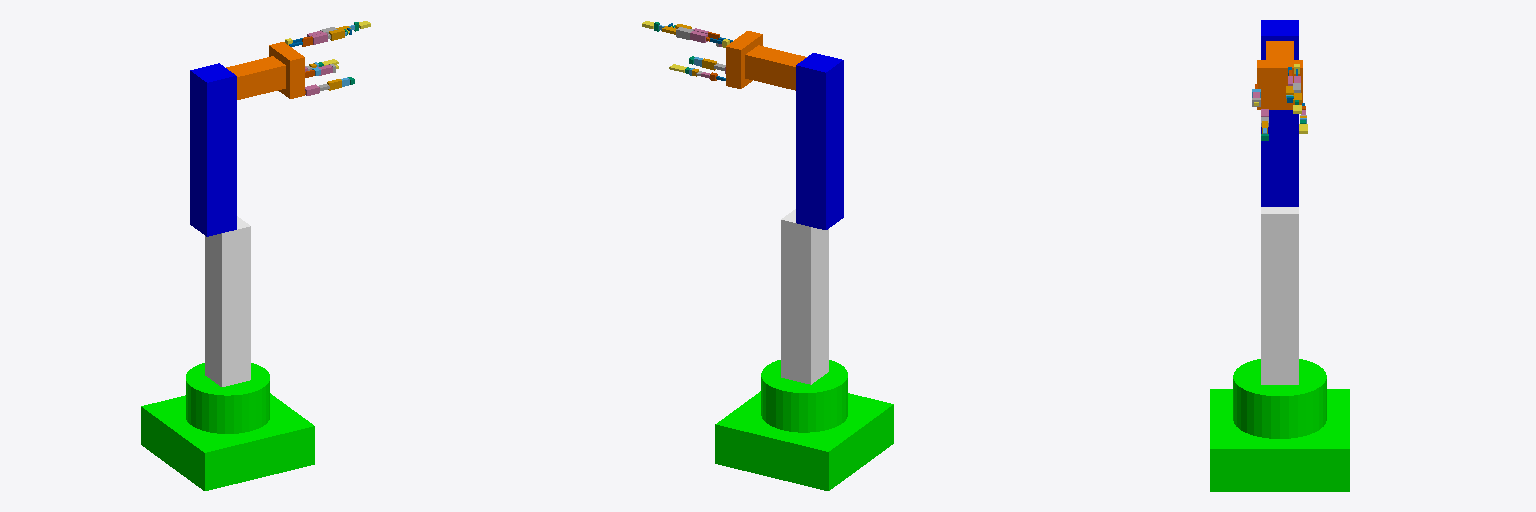
--- Facts derived from the render (not from the file) ---
The picture shows the robot from 3 angles, left to right: view 1: azimuth 30°, elevation 25°; view 2: azimuth 150°, elevation 25°; view 3: azimuth 270°, elevation 25°; orthographic projection.
Robot: robot — 44 links, 43 joints (40 revolute, 1 continuous, 2 fixed); root link base_link; default pose: all joints at 0.
Links seen in each view (by area): view 1: base_link, arm_link, support_link, wrist_link, palm_link; view 2: base_link, arm_link, support_link, wrist_link, palm_link; view 3: base_link, support_link, arm_link, palm_link, wrist_link.
Boxes of the visible links, x1,y1,x2,y2 form: base_link: [141, 363, 314, 490]; arm_link: [190, 63, 236, 236]; support_link: [205, 216, 250, 386]; wrist_link: [226, 56, 285, 99]; palm_link: [269, 42, 304, 98]; base_link: [715, 360, 893, 490]; arm_link: [796, 53, 843, 229]; support_link: [781, 209, 828, 384]; wrist_link: [745, 45, 806, 90]; palm_link: [726, 31, 762, 88]; base_link: [1210, 359, 1349, 491]; support_link: [1261, 207, 1298, 384]; arm_link: [1261, 20, 1298, 206]; palm_link: [1257, 60, 1302, 109]; wrist_link: [1266, 41, 1293, 59].
Size in the robot's own frame: 1.39 by 0.75 by 2.55 metres.
Geometry: primitives only (box / cylinder / sphere), no mesh files.

URDF robot description (robot):
<?xml version='1.0' encoding='utf-8'?>
<robot name="robot">
  <link name="base_link">
    <visual>
      <origin xyz="0 0 0.125" rpy="0 0 0" />
      <geometry>
        <box size="0.75 0.75 0.25" />
      </geometry>
      <material name="green" />
    </visual>
    <visual>
      <origin xyz="0 0 0.375" rpy="0 0 0" />
      <geometry>
        <cylinder length="0.25" radius="0.25" />
      </geometry>
      <material name="green">
        <color rgba="0 1 0 1" />
      </material>
    </visual>
    <collision>
      <geometry>
        <box size="0.75 0.75 0.5" />
      </geometry>
    </collision>
    <inertial>
      <mass value="0.5" />
      <inertia ixx="0.034" ixy="0.0" ixz="0.0" iyy="0.034" iyz="0.0" izz="0.034" />
    </inertial>
  </link>
  <link name="support_link">
    <visual>
      <origin xyz="0 0 0.5" rpy="0 0 0" />
      <geometry>
        <box size="0.2 0.2 1" />
      </geometry>
      <material name="white">
        <color rgba="1 1 1 1" />
      </material>
    </visual>
    <collision>
      <geometry>
        <box size="0.2 0.2 1" />
      </geometry>
    </collision>
    <inertial>
      <mass value="0.1" />
      <inertia ixx="0.01" ixy="0.0" ixz="0.0" iyy="0.01" iyz="0.0" izz="0.01" />
    </inertial>
  </link>
  <joint name="support_joint" type="continuous">
    <origin xyz="0 0 0.5" rpy="0 0 0" />
    <parent link="base_link" />
    <child link="support_link" />
    <axis xyz="0 0 1" />
  </joint>
  <link name="arm_link">
    <visual>
      <origin xyz="0 0 0.5" rpy="0 0 0" />
      <geometry>
        <box size="0.2 0.2 1" />
      </geometry>
      <material name="blue">
        <color rgba="0 0 1 1" />
      </material>
    </visual>
    <collision>
      <geometry>
        <box size="0.2 0.2 1" />
      </geometry>
    </collision>
    <inertial>
      <mass value="0.1" />
      <inertia ixx="0.01" ixy="0.0" ixz="0.0" iyy="0.01" iyz="0.0" izz="0.01" />
    </inertial>
  </link>
  <joint name="arm_joint" type="revolute">
    <origin xyz="-0.1 0 1" rpy="0 0 0" />
    <parent link="support_link" />
    <child link="arm_link" />
    <axis xyz="0 1 0" />
    <limit lower="-3.14" upper="3.14" effort="1.0" velocity="1.0" />
  </joint>
  <link name="wrist_link">
    <visual>
      <origin xyz="0 0 0.25" rpy="0 0 0" />
      <geometry>
        <box size="0.15 0.15 0.5" />
      </geometry>
      <material name="orange">
        <color rgba="1 0.5 0 1" />
      </material>
    </visual>
    <collision>
      <geometry>
        <box size="0.15 0.15 0.5" />
      </geometry>
    </collision>
    <inertial>
      <mass value="0.1" />
      <inertia ixx="0.01" ixy="0.0" ixz="0.0" iyy="0.01" iyz="0.0" izz="0.01" />
    </inertial>
  </link>
  <joint name="wrist_joint" type="fixed">
    <origin xyz="0 0 0.9" rpy="0 1.571 0" />
    <parent link="arm_link" />
    <child link="wrist_link" />
  </joint>
  <link name="palm_link">
    <visual>
      <origin xyz="0 0 0.05" rpy="0 0 0" />
      <geometry>
        <box size="0.25 0.25 0.1" />
      </geometry>
      <material name="orange" />
    </visual>
    <collision>
      <geometry>
        <box size="0.25 0.25 0.1" />
      </geometry>
    </collision>
    <inertial>
      <mass value="0.1" />
      <inertia ixx="0.01" ixy="0.0" ixz="0.0" iyy="0.01" iyz="0.0" izz="0.01" />
    </inertial>
  </link>
  <joint name="palm_joint" type="fixed">
    <origin xyz="0 0 0.45" rpy="0 0 0" />
    <parent link="wrist_link" />
    <child link="palm_link" />
  </joint>
  <link name="finger_link_0_0">
    <visual>
      <origin xyz="0 0 0.0135" rpy="0 0 0" />
      <geometry>
        <box size="0.014 0.015 0.027" />
      </geometry>
    </visual>
    <collision>
      <geometry>
        <box size="0.014 0.015 0.027" />
      </geometry>
    </collision>
    <inertial>
      <mass value="0.002" />
      <inertia ixx="0.0" iyy="0.0" izz="0.0" ixy="0" ixz="0" iyz="0" />
    </inertial>
  </link>
  <joint name="finger_joint_palm_link_to_finger_link_0_0" type="revolute">
    <origin xyz="0.125 -0.08 0.1" rpy="0 0 0" />
    <parent link="palm_link" />
    <child link="finger_link_0_0" />
    <axis xyz="0.0 1.0 0.0" />
    <limit lower="-3.142" upper="3.142" effort="10" velocity="10" />
  </joint>
  <link name="finger_link_0_1">
    <visual>
      <origin xyz="0 0 0.0425" rpy="0 0 0" />
      <geometry>
        <box size="0.04 0.047 0.085" />
      </geometry>
    </visual>
    <collision>
      <geometry>
        <box size="0.04 0.047 0.085" />
      </geometry>
    </collision>
    <inertial>
      <mass value="0.048" />
      <inertia ixx="0.0" iyy="0.0" izz="0.0" ixy="0" ixz="0" iyz="0" />
    </inertial>
  </link>
  <joint name="finger_joint_finger_link_0_0_to_finger_link_0_1" type="revolute">
    <origin xyz="0.0 0.0 0.027" rpy="0 0 0" />
    <parent link="finger_link_0_0" />
    <child link="finger_link_0_1" />
    <axis xyz="0.0 1.0 0.0" />
    <limit lower="-3.142" upper="3.142" effort="10" velocity="10" />
  </joint>
  <link name="finger_link_0_2">
    <visual>
      <origin xyz="0 0 0.036" rpy="0 0 0" />
      <geometry>
        <box size="0.021 0.038 0.072" />
      </geometry>
    </visual>
    <collision>
      <geometry>
        <box size="0.021 0.038 0.072" />
      </geometry>
    </collision>
    <inertial>
      <mass value="0.017" />
      <inertia ixx="0.0" iyy="0.0" izz="0.0" ixy="0" ixz="0" iyz="0" />
    </inertial>
  </link>
  <joint name="finger_joint_finger_link_0_1_to_finger_link_0_2" type="revolute">
    <origin xyz="0.0 0.0 0.085" rpy="0 0 0" />
    <parent link="finger_link_0_1" />
    <child link="finger_link_0_2" />
    <axis xyz="0.0 1.0 0.0" />
    <limit lower="-3.142" upper="3.142" effort="10" velocity="10" />
  </joint>
  <link name="finger_link_0_3">
    <visual>
      <origin xyz="0 0 0.0425" rpy="0 0 0" />
      <geometry>
        <box size="0.048 0.028 0.085" />
      </geometry>
    </visual>
    <collision>
      <geometry>
        <box size="0.048 0.028 0.085" />
      </geometry>
    </collision>
    <inertial>
      <mass value="0.034" />
      <inertia ixx="0.0" iyy="0.0" izz="0.0" ixy="0" ixz="0" iyz="0" />
    </inertial>
  </link>
  <joint name="finger_joint_finger_link_0_2_to_finger_link_0_3" type="revolute">
    <origin xyz="0.0 0.0 0.072" rpy="0 0 0" />
    <parent link="finger_link_0_2" />
    <child link="finger_link_0_3" />
    <axis xyz="0.0 1.0 0.0" />
    <limit lower="-3.142" upper="3.142" effort="10" velocity="10" />
  </joint>
  <link name="finger_link_0_4">
    <visual>
      <origin xyz="0 0 0.0275" rpy="0 0 0" />
      <geometry>
        <box size="0.041 0.025 0.055" />
      </geometry>
    </visual>
    <collision>
      <geometry>
        <box size="0.041 0.025 0.055" />
      </geometry>
    </collision>
    <inertial>
      <mass value="0.017" />
      <inertia ixx="0.0" iyy="0.0" izz="0.0" ixy="0" ixz="0" iyz="0" />
    </inertial>
  </link>
  <joint name="finger_joint_finger_link_0_3_to_finger_link_0_4" type="revolute">
    <origin xyz="0.0 0.0 0.085" rpy="0 0 0" />
    <parent link="finger_link_0_3" />
    <child link="finger_link_0_4" />
    <axis xyz="1.0 0.0 0.0" />
    <limit lower="-3.142" upper="3.142" effort="10" velocity="10" />
  </joint>
  <link name="finger_link_0_5">
    <visual>
      <origin xyz="0 0 0.0145" rpy="0 0 0" />
      <geometry>
        <box size="0.03 0.043 0.029" />
      </geometry>
    </visual>
    <collision>
      <geometry>
        <box size="0.03 0.043 0.029" />
      </geometry>
    </collision>
    <inertial>
      <mass value="0.011" />
      <inertia ixx="0.0" iyy="0.0" izz="0.0" ixy="0" ixz="0" iyz="0" />
    </inertial>
  </link>
  <joint name="finger_joint_finger_link_0_4_to_finger_link_0_5" type="revolute">
    <origin xyz="0.0 0.0 0.055" rpy="0 0 0" />
    <parent link="finger_link_0_4" />
    <child link="finger_link_0_5" />
    <axis xyz="0.0 1.0 0.0" />
    <limit lower="-3.142" upper="3.142" effort="10" velocity="10" />
  </joint>
  <link name="finger_link_1_0">
    <visual>
      <origin xyz="0 0 0.017" rpy="0 0 0" />
      <geometry>
        <box size="0.043 0.031 0.034" />
      </geometry>
    </visual>
    <collision>
      <geometry>
        <box size="0.043 0.031 0.034" />
      </geometry>
    </collision>
    <inertial>
      <mass value="0.014" />
      <inertia ixx="0.0" iyy="0.0" izz="0.0" ixy="0" ixz="0" iyz="0" />
    </inertial>
  </link>
  <joint name="finger_joint_palm_link_to_finger_link_1_0" type="revolute">
    <origin xyz="-0.125 0.092 0.1" rpy="0 0 0" />
    <parent link="palm_link" />
    <child link="finger_link_1_0" />
    <axis xyz="0.0 -1.0 0.0" />
    <limit lower="-3.142" upper="3.142" effort="10" velocity="10" />
  </joint>
  <link name="finger_link_1_1">
    <visual>
      <origin xyz="0 0 0.0445" rpy="0 0 0" />
      <geometry>
        <box size="0.018 0.012 0.089" />
      </geometry>
    </visual>
    <collision>
      <geometry>
        <box size="0.018 0.012 0.089" />
      </geometry>
    </collision>
    <inertial>
      <mass value="0.006" />
      <inertia ixx="0.0" iyy="0.0" izz="0.0" ixy="0" ixz="0" iyz="0" />
    </inertial>
  </link>
  <joint name="finger_joint_finger_link_1_0_to_finger_link_1_1" type="revolute">
    <origin xyz="0.0 0.0 0.034" rpy="0 0 0" />
    <parent link="finger_link_1_0" />
    <child link="finger_link_1_1" />
    <axis xyz="0.0 1.0 0.0" />
    <limit lower="-3.142" upper="3.142" effort="10" velocity="10" />
  </joint>
  <link name="finger_link_1_2">
    <visual>
      <origin xyz="0 0 0.0125" rpy="0 0 0" />
      <geometry>
        <box size="0.017 0.017 0.025" />
      </geometry>
    </visual>
    <collision>
      <geometry>
        <box size="0.017 0.017 0.025" />
      </geometry>
    </collision>
    <inertial>
      <mass value="0.002" />
      <inertia ixx="0.0" iyy="0.0" izz="0.0" ixy="0" ixz="0" iyz="0" />
    </inertial>
  </link>
  <joint name="finger_joint_finger_link_1_1_to_finger_link_1_2" type="revolute">
    <origin xyz="0.0 0.0 0.089" rpy="0 0 0" />
    <parent link="finger_link_1_1" />
    <child link="finger_link_1_2" />
    <axis xyz="0.0 1.0 0.0" />
    <limit lower="-3.142" upper="3.142" effort="10" velocity="10" />
  </joint>
  <link name="finger_link_1_3">
    <visual>
      <origin xyz="0 0 0.048" rpy="0 0 0" />
      <geometry>
        <box size="0.044 0.035 0.096" />
      </geometry>
    </visual>
    <collision>
      <geometry>
        <box size="0.044 0.035 0.096" />
      </geometry>
    </collision>
    <inertial>
      <mass value="0.044" />
      <inertia ixx="0.0" iyy="0.0" izz="0.0" ixy="0" ixz="0" iyz="0" />
    </inertial>
  </link>
  <joint name="finger_joint_finger_link_1_2_to_finger_link_1_3" type="revolute">
    <origin xyz="0.0 0.0 0.025" rpy="0 0 0" />
    <parent link="finger_link_1_2" />
    <child link="finger_link_1_3" />
    <axis xyz="0.0 1.0 0.0" />
    <limit lower="-3.142" upper="3.142" effort="10" velocity="10" />
  </joint>
  <link name="finger_link_1_4">
    <visual>
      <origin xyz="0 0 0.0455" rpy="0 0 0" />
      <geometry>
        <box size="0.048 0.045 0.091" />
      </geometry>
    </visual>
    <collision>
      <geometry>
        <box size="0.048 0.045 0.091" />
      </geometry>
    </collision>
    <inertial>
      <mass value="0.059" />
      <inertia ixx="0.0" iyy="0.0" izz="0.0" ixy="0" ixz="0" iyz="0" />
    </inertial>
  </link>
  <joint name="finger_joint_finger_link_1_3_to_finger_link_1_4" type="revolute">
    <origin xyz="0.0 0.0 0.096" rpy="0 0 0" />
    <parent link="finger_link_1_3" />
    <child link="finger_link_1_4" />
    <axis xyz="0.0 1.0 0.0" />
    <limit lower="-3.142" upper="3.142" effort="10" velocity="10" />
  </joint>
  <link name="finger_link_1_5">
    <visual>
      <origin xyz="0 0 0.046" rpy="0 0 0" />
      <geometry>
        <box size="0.019 0.046 0.092" />
      </geometry>
    </visual>
    <collision>
      <geometry>
        <box size="0.019 0.046 0.092" />
      </geometry>
    </collision>
    <inertial>
      <mass value="0.024" />
      <inertia ixx="0.0" iyy="0.0" izz="0.0" ixy="0" ixz="0" iyz="0" />
    </inertial>
  </link>
  <joint name="finger_joint_finger_link_1_4_to_finger_link_1_5" type="revolute">
    <origin xyz="0.0 0.0 0.091" rpy="0 0 0" />
    <parent link="finger_link_1_4" />
    <child link="finger_link_1_5" />
    <axis xyz="0.0 1.0 0.0" />
    <limit lower="-3.142" upper="3.142" effort="10" velocity="10" />
  </joint>
  <link name="finger_link_1_6">
    <visual>
      <origin xyz="0 0 0.017" rpy="0 0 0" />
      <geometry>
        <box size="0.026 0.013 0.034" />
      </geometry>
    </visual>
    <collision>
      <geometry>
        <box size="0.026 0.013 0.034" />
      </geometry>
    </collision>
    <inertial>
      <mass value="0.003" />
      <inertia ixx="0.0" iyy="0.0" izz="0.0" ixy="0" ixz="0" iyz="0" />
    </inertial>
  </link>
  <joint name="finger_joint_finger_link_1_5_to_finger_link_1_6" type="revolute">
    <origin xyz="0.0 0.0 0.092" rpy="0 0 0" />
    <parent link="finger_link_1_5" />
    <child link="finger_link_1_6" />
    <axis xyz="1.0 1.0 0.0" />
    <limit lower="-3.142" upper="3.142" effort="10" velocity="10" />
  </joint>
  <link name="finger_link_1_7">
    <visual>
      <origin xyz="0 0 0.0145" rpy="0 0 0" />
      <geometry>
        <box size="0.05 0.019 0.029" />
      </geometry>
    </visual>
    <collision>
      <geometry>
        <box size="0.05 0.019 0.029" />
      </geometry>
    </collision>
    <inertial>
      <mass value="0.008" />
      <inertia ixx="0.0" iyy="0.0" izz="0.0" ixy="0" ixz="0" iyz="0" />
    </inertial>
  </link>
  <joint name="finger_joint_finger_link_1_6_to_finger_link_1_7" type="revolute">
    <origin xyz="0.0 0.0 0.034" rpy="0 0 0" />
    <parent link="finger_link_1_6" />
    <child link="finger_link_1_7" />
    <axis xyz="0.0 1.0 0.0" />
    <limit lower="-3.142" upper="3.142" effort="10" velocity="10" />
  </joint>
  <link name="finger_link_1_8">
    <visual>
      <origin xyz="0 0 0.0355" rpy="0 0 0" />
      <geometry>
        <box size="0.021 0.048 0.071" />
      </geometry>
    </visual>
    <collision>
      <geometry>
        <box size="0.021 0.048 0.071" />
      </geometry>
    </collision>
    <inertial>
      <mass value="0.021" />
      <inertia ixx="0.0" iyy="0.0" izz="0.0" ixy="0" ixz="0" iyz="0" />
    </inertial>
  </link>
  <joint name="finger_joint_finger_link_1_7_to_finger_link_1_8" type="revolute">
    <origin xyz="0.0 0.0 0.029" rpy="0 0 0" />
    <parent link="finger_link_1_7" />
    <child link="finger_link_1_8" />
    <axis xyz="1.0 0.0 0.0" />
    <limit lower="-3.142" upper="3.142" effort="10" velocity="10" />
  </joint>
  <link name="finger_link_2_0">
    <visual>
      <origin xyz="0 0 0.0305" rpy="0 0 0" />
      <geometry>
        <box size="0.016 0.014 0.061" />
      </geometry>
    </visual>
    <collision>
      <geometry>
        <box size="0.016 0.014 0.061" />
      </geometry>
    </collision>
    <inertial>
      <mass value="0.004" />
      <inertia ixx="0.0" iyy="0.0" izz="0.0" ixy="0" ixz="0" iyz="0" />
    </inertial>
  </link>
  <joint name="finger_joint_palm_link_to_finger_link_2_0" type="revolute">
    <origin xyz="0.087 0.125 0.1" rpy="0 0 0" />
    <parent link="palm_link" />
    <child link="finger_link_2_0" />
    <axis xyz="-1.0 0.0 0.0" />
    <limit lower="-3.142" upper="3.142" effort="10" velocity="10" />
  </joint>
  <link name="finger_link_2_1">
    <visual>
      <origin xyz="0 0 0.019" rpy="0 0 0" />
      <geometry>
        <box size="0.037 0.029 0.038" />
      </geometry>
    </visual>
    <collision>
      <geometry>
        <box size="0.037 0.029 0.038" />
      </geometry>
    </collision>
    <inertial>
      <mass value="0.012" />
      <inertia ixx="0.0" iyy="0.0" izz="0.0" ixy="0" ixz="0" iyz="0" />
    </inertial>
  </link>
  <joint name="finger_joint_finger_link_2_0_to_finger_link_2_1" type="revolute">
    <origin xyz="0.0 0.0 0.061" rpy="0 0 0" />
    <parent link="finger_link_2_0" />
    <child link="finger_link_2_1" />
    <axis xyz="1.0 0.0 0.0" />
    <limit lower="-3.142" upper="3.142" effort="10" velocity="10" />
  </joint>
  <link name="finger_link_2_2">
    <visual>
      <origin xyz="0 0 0.0285" rpy="0 0 0" />
      <geometry>
        <box size="0.018 0.028 0.057" />
      </geometry>
    </visual>
    <collision>
      <geometry>
        <box size="0.018 0.028 0.057" />
      </geometry>
    </collision>
    <inertial>
      <mass value="0.009" />
      <inertia ixx="0.0" iyy="0.0" izz="0.0" ixy="0" ixz="0" iyz="0" />
    </inertial>
  </link>
  <joint name="finger_joint_finger_link_2_1_to_finger_link_2_2" type="revolute">
    <origin xyz="0.0 0.0 0.038" rpy="0 0 0" />
    <parent link="finger_link_2_1" />
    <child link="finger_link_2_2" />
    <axis xyz="0.0 1.0 0.0" />
    <limit lower="-3.142" upper="3.142" effort="10" velocity="10" />
  </joint>
  <link name="finger_link_2_3">
    <visual>
      <origin xyz="0 0 0.0145" rpy="0 0 0" />
      <geometry>
        <box size="0.012 0.039 0.029" />
      </geometry>
    </visual>
    <collision>
      <geometry>
        <box size="0.012 0.039 0.029" />
      </geometry>
    </collision>
    <inertial>
      <mass value="0.004" />
      <inertia ixx="0.0" iyy="0.0" izz="0.0" ixy="0" ixz="0" iyz="0" />
    </inertial>
  </link>
  <joint name="finger_joint_finger_link_2_2_to_finger_link_2_3" type="revolute">
    <origin xyz="0.0 0.0 0.057" rpy="0 0 0" />
    <parent link="finger_link_2_2" />
    <child link="finger_link_2_3" />
    <axis xyz="0.0 1.0 0.0" />
    <limit lower="-3.142" upper="3.142" effort="10" velocity="10" />
  </joint>
  <link name="finger_link_2_4">
    <visual>
      <origin xyz="0 0 0.0155" rpy="0 0 0" />
      <geometry>
        <box size="0.03 0.034 0.031" />
      </geometry>
    </visual>
    <collision>
      <geometry>
        <box size="0.03 0.034 0.031" />
      </geometry>
    </collision>
    <inertial>
      <mass value="0.009" />
      <inertia ixx="0.0" iyy="0.0" izz="0.0" ixy="0" ixz="0" iyz="0" />
    </inertial>
  </link>
  <joint name="finger_joint_finger_link_2_3_to_finger_link_2_4" type="revolute">
    <origin xyz="0.0 0.0 0.029" rpy="0 0 0" />
    <parent link="finger_link_2_3" />
    <child link="finger_link_2_4" />
    <axis xyz="0.0 1.0 0.0" />
    <limit lower="-3.142" upper="3.142" effort="10" velocity="10" />
  </joint>
  <link name="finger_link_2_5">
    <visual>
      <origin xyz="0 0 0.008" rpy="0 0 0" />
      <geometry>
        <box size="0.034 0.038 0.016" />
      </geometry>
    </visual>
    <collision>
      <geometry>
        <box size="0.034 0.038 0.016" />
      </geometry>
    </collision>
    <inertial>
      <mass value="0.006" />
      <inertia ixx="0.0" iyy="0.0" izz="0.0" ixy="0" ixz="0" iyz="0" />
    </inertial>
  </link>
  <joint name="finger_joint_finger_link_2_4_to_finger_link_2_5" type="revolute">
    <origin xyz="0.0 0.0 0.031" rpy="0 0 0" />
    <parent link="finger_link_2_4" />
    <child link="finger_link_2_5" />
    <axis xyz="0.0 1.0 0.0" />
    <limit lower="-3.142" upper="3.142" effort="10" velocity="10" />
  </joint>
  <link name="finger_link_2_6">
    <visual>
      <origin xyz="0 0 0.0155" rpy="0 0 0" />
      <geometry>
        <box size="0.025 0.032 0.031" />
      </geometry>
    </visual>
    <collision>
      <geometry>
        <box size="0.025 0.032 0.031" />
      </geometry>
    </collision>
    <inertial>
      <mass value="0.007" />
      <inertia ixx="0.0" iyy="0.0" izz="0.0" ixy="0" ixz="0" iyz="0" />
    </inertial>
  </link>
  <joint name="finger_joint_finger_link_2_5_to_finger_link_2_6" type="revolute">
    <origin xyz="0.0 0.0 0.016" rpy="0 0 0" />
    <parent link="finger_link_2_5" />
    <child link="finger_link_2_6" />
    <axis xyz="1.0 0.0 0.0" />
    <limit lower="-3.142" upper="3.142" effort="10" velocity="10" />
  </joint>
  <link name="finger_link_2_7">
    <visual>
      <origin xyz="0 0 0.0485" rpy="0 0 0" />
      <geometry>
        <box size="0.014 0.048 0.097" />
      </geometry>
    </visual>
    <collision>
      <geometry>
        <box size="0.014 0.048 0.097" />
      </geometry>
    </collision>
    <inertial>
      <mass value="0.02" />
      <inertia ixx="0.0" iyy="0.0" izz="0.0" ixy="0" ixz="0" iyz="0" />
    </inertial>
  </link>
  <joint name="finger_joint_finger_link_2_6_to_finger_link_2_7" type="revolute">
    <origin xyz="0.0 0.0 0.031" rpy="0 0 0" />
    <parent link="finger_link_2_6" />
    <child link="finger_link_2_7" />
    <axis xyz="0.0 1.0 0.0" />
    <limit lower="-3.142" upper="3.142" effort="10" velocity="10" />
  </joint>
  <link name="finger_link_3_0">
    <visual>
      <origin xyz="0 0 0.0425" rpy="0 0 0" />
      <geometry>
        <box size="0.013 0.02 0.085" />
      </geometry>
    </visual>
    <collision>
      <geometry>
        <box size="0.013 0.02 0.085" />
      </geometry>
    </collision>
    <inertial>
      <mass value="0.007" />
      <inertia ixx="0.0" iyy="0.0" izz="0.0" ixy="0" ixz="0" iyz="0" />
    </inertial>
  </link>
  <joint name="finger_joint_palm_link_to_finger_link_3_0" type="revolute">
    <origin xyz="-0.125 0.055 0.1" rpy="0 0 0" />
    <parent link="palm_link" />
    <child link="finger_link_3_0" />
    <axis xyz="0.0 -1.0 0.0" />
    <limit lower="-3.142" upper="3.142" effort="10" velocity="10" />
  </joint>
  <link name="finger_link_3_1">
    <visual>
      <origin xyz="0 0 0.035" rpy="0 0 0" />
      <geometry>
        <box size="0.049 0.014 0.07" />
      </geometry>
    </visual>
    <collision>
      <geometry>
        <box size="0.049 0.014 0.07" />
      </geometry>
    </collision>
    <inertial>
      <mass value="0.014" />
      <inertia ixx="0.0" iyy="0.0" izz="0.0" ixy="0" ixz="0" iyz="0" />
    </inertial>
  </link>
  <joint name="finger_joint_finger_link_3_0_to_finger_link_3_1" type="revolute">
    <origin xyz="0.0 0.0 0.085" rpy="0 0 0" />
    <parent link="finger_link_3_0" />
    <child link="finger_link_3_1" />
    <axis xyz="0.0 1.0 0.0" />
    <limit lower="-3.142" upper="3.142" effort="10" velocity="10" />
  </joint>
  <link name="finger_link_3_2">
    <visual>
      <origin xyz="0 0 0.0485" rpy="0 0 0" />
      <geometry>
        <box size="0.047 0.028 0.097" />
      </geometry>
    </visual>
    <collision>
      <geometry>
        <box size="0.047 0.028 0.097" />
      </geometry>
    </collision>
    <inertial>
      <mass value="0.038" />
      <inertia ixx="0.0" iyy="0.0" izz="0.0" ixy="0" ixz="0" iyz="0" />
    </inertial>
  </link>
  <joint name="finger_joint_finger_link_3_1_to_finger_link_3_2" type="revolute">
    <origin xyz="0.0 0.0 0.07" rpy="0 0 0" />
    <parent link="finger_link_3_1" />
    <child link="finger_link_3_2" />
    <axis xyz="1.0 0.0 0.0" />
    <limit lower="-3.142" upper="3.142" effort="10" velocity="10" />
  </joint>
  <link name="finger_link_3_3">
    <visual>
      <origin xyz="0 0 0.0115" rpy="0 0 0" />
      <geometry>
        <box size="0.025 0.023 0.023" />
      </geometry>
    </visual>
    <collision>
      <geometry>
        <box size="0.025 0.023 0.023" />
      </geometry>
    </collision>
    <inertial>
      <mass value="0.004" />
      <inertia ixx="0.0" iyy="0.0" izz="0.0" ixy="0" ixz="0" iyz="0" />
    </inertial>
  </link>
  <joint name="finger_joint_finger_link_3_2_to_finger_link_3_3" type="revolute">
    <origin xyz="0.0 0.0 0.097" rpy="0 0 0" />
    <parent link="finger_link_3_2" />
    <child link="finger_link_3_3" />
    <axis xyz="0.0 1.0 0.0" />
    <limit lower="-3.142" upper="3.142" effort="10" velocity="10" />
  </joint>
  <link name="finger_link_3_4">
    <visual>
      <origin xyz="0 0 0.045" rpy="0 0 0" />
      <geometry>
        <box size="0.047 0.042 0.09" />
      </geometry>
    </visual>
    <collision>
      <geometry>
        <box size="0.047 0.042 0.09" />
      </geometry>
    </collision>
    <inertial>
      <mass value="0.053" />
      <inertia ixx="0.0" iyy="0.0" izz="0.0" ixy="0" ixz="0" iyz="0" />
    </inertial>
  </link>
  <joint name="finger_joint_finger_link_3_3_to_finger_link_3_4" type="revolute">
    <origin xyz="0.0 0.0 0.023" rpy="0 0 0" />
    <parent link="finger_link_3_3" />
    <child link="finger_link_3_4" />
    <axis xyz="1.0 0.0 0.0" />
    <limit lower="-3.142" upper="3.142" effort="10" velocity="10" />
  </joint>
  <link name="finger_link_3_5">
    <visual>
      <origin xyz="0 0 0.0055" rpy="0 0 0" />
      <geometry>
        <box size="0.017 0.046 0.011" />
      </geometry>
    </visual>
    <collision>
      <geometry>
        <box size="0.017 0.046 0.011" />
      </geometry>
    </collision>
    <inertial>
      <mass value="0.003" />
      <inertia ixx="0.0" iyy="0.0" izz="0.0" ixy="0" ixz="0" iyz="0" />
    </inertial>
  </link>
  <joint name="finger_joint_finger_link_3_4_to_finger_link_3_5" type="revolute">
    <origin xyz="0.0 0.0 0.09" rpy="0 0 0" />
    <parent link="finger_link_3_4" />
    <child link="finger_link_3_5" />
    <axis xyz="0.0 1.0 0.0" />
    <limit lower="-3.142" upper="3.142" effort="10" velocity="10" />
  </joint>
  <link name="finger_link_3_6">
    <visual>
      <origin xyz="0 0 0.006" rpy="0 0 0" />
      <geometry>
        <box size="0.024 0.036 0.012" />
      </geometry>
    </visual>
    <collision>
      <geometry>
        <box size="0.024 0.036 0.012" />
      </geometry>
    </collision>
    <inertial>
      <mass value="0.003" />
      <inertia ixx="0.0" iyy="0.0" izz="0.0" ixy="0" ixz="0" iyz="0" />
    </inertial>
  </link>
  <joint name="finger_joint_finger_link_3_5_to_finger_link_3_6" type="revolute">
    <origin xyz="0.0 0.0 0.011" rpy="0 0 0" />
    <parent link="finger_link_3_5" />
    <child link="finger_link_3_6" />
    <axis xyz="1.0 0.0 0.0" />
    <limit lower="-3.142" upper="3.142" effort="10" velocity="10" />
  </joint>
  <link name="finger_link_3_7">
    <visual>
      <origin xyz="0 0 0.0065" rpy="0 0 0" />
      <geometry>
        <box size="0.012 0.022 0.013" />
      </geometry>
    </visual>
    <collision>
      <geometry>
        <box size="0.012 0.022 0.013" />
      </geometry>
    </collision>
    <inertial>
      <mass value="0.001" />
      <inertia ixx="0.0" iyy="0.0" izz="0.0" ixy="0" ixz="0" iyz="0" />
    </inertial>
  </link>
  <joint name="finger_joint_finger_link_3_6_to_finger_link_3_7" type="revolute">
    <origin xyz="0.0 0.0 0.012" rpy="0 0 0" />
    <parent link="finger_link_3_6" />
    <child link="finger_link_3_7" />
    <axis xyz="0.0 1.0 0.0" />
    <limit lower="-3.142" upper="3.142" effort="10" velocity="10" />
  </joint>
  <link name="finger_link_3_8">
    <visual>
      <origin xyz="0 0 0.0065" rpy="0 0 0" />
      <geometry>
        <box size="0.03 0.038 0.013" />
      </geometry>
    </visual>
    <collision>
      <geometry>
        <box size="0.03 0.038 0.013" />
      </geometry>
    </collision>
    <inertial>
      <mass value="0.004" />
      <inertia ixx="0.0" iyy="0.0" izz="0.0" ixy="0" ixz="0" iyz="0" />
    </inertial>
  </link>
  <joint name="finger_joint_finger_link_3_7_to_finger_link_3_8" type="revolute">
    <origin xyz="0.0 0.0 0.013" rpy="0 0 0" />
    <parent link="finger_link_3_7" />
    <child link="finger_link_3_8" />
    <axis xyz="0.0 1.0 0.0" />
    <limit lower="-3.142" upper="3.142" effort="10" velocity="10" />
  </joint>
  <link name="finger_link_4_0">
    <visual>
      <origin xyz="0 0 0.043" rpy="0 0 0" />
      <geometry>
        <box size="0.037 0.013 0.086" />
      </geometry>
    </visual>
    <collision>
      <geometry>
        <box size="0.037 0.013 0.086" />
      </geometry>
    </collision>
    <inertial>
      <mass value="0.012" />
      <inertia ixx="0.0" iyy="0.0" izz="0.0" ixy="0" ixz="0" iyz="0" />
    </inertial>
  </link>
  <joint name="finger_joint_palm_link_to_finger_link_4_0" type="revolute">
    <origin xyz="-0.009 -0.125 0.1" rpy="0 0 0" />
    <parent link="palm_link" />
    <child link="finger_link_4_0" />
    <axis xyz="1.0 0.0 0.0" />
    <limit lower="-3.142" upper="3.142" effort="10" velocity="10" />
  </joint>
  <link name="finger_link_4_1">
    <visual>
      <origin xyz="0 0 0.0465" rpy="0 0 0" />
      <geometry>
        <box size="0.038 0.038 0.093" />
      </geometry>
    </visual>
    <collision>
      <geometry>
        <box size="0.038 0.038 0.093" />
      </geometry>
    </collision>
    <inertial>
      <mass value="0.04" />
      <inertia ixx="0.0" iyy="0.0" izz="0.0" ixy="0" ixz="0" iyz="0" />
    </inertial>
  </link>
  <joint name="finger_joint_finger_link_4_0_to_finger_link_4_1" type="revolute">
    <origin xyz="0.0 0.0 0.086" rpy="0 0 0" />
    <parent link="finger_link_4_0" />
    <child link="finger_link_4_1" />
    <axis xyz="0.0 1.0 0.0" />
    <limit lower="-3.142" upper="3.142" effort="10" velocity="10" />
  </joint>
  <link name="finger_link_4_2">
    <visual>
      <origin xyz="0 0 0.01" rpy="0 0 0" />
      <geometry>
        <box size="0.041 0.044 0.02" />
      </geometry>
    </visual>
    <collision>
      <geometry>
        <box size="0.041 0.044 0.02" />
      </geometry>
    </collision>
    <inertial>
      <mass value="0.011" />
      <inertia ixx="0.0" iyy="0.0" izz="0.0" ixy="0" ixz="0" iyz="0" />
    </inertial>
  </link>
  <joint name="finger_joint_finger_link_4_1_to_finger_link_4_2" type="revolute">
    <origin xyz="0.0 0.0 0.093" rpy="0 0 0" />
    <parent link="finger_link_4_1" />
    <child link="finger_link_4_2" />
    <axis xyz="0.0 1.0 0.0" />
    <limit lower="-3.142" upper="3.142" effort="10" velocity="10" />
  </joint>
  <link name="finger_link_5_0">
    <visual>
      <origin xyz="0 0 0.031" rpy="0 0 0" />
      <geometry>
        <box size="0.026 0.01 0.062" />
      </geometry>
    </visual>
    <collision>
      <geometry>
        <box size="0.026 0.01 0.062" />
      </geometry>
    </collision>
    <inertial>
      <mass value="0.005" />
      <inertia ixx="0.0" iyy="0.0" izz="0.0" ixy="0" ixz="0" iyz="0" />
    </inertial>
  </link>
  <joint name="finger_joint_palm_link_to_finger_link_5_0" type="revolute">
    <origin xyz="-0.012 -0.125 0.1" rpy="0 0 0" />
    <parent link="palm_link" />
    <child link="finger_link_5_0" />
    <axis xyz="1.0 0.0 0.0" />
    <limit lower="-3.142" upper="3.142" effort="10" velocity="10" />
  </joint>
  <link name="finger_link_5_1">
    <visual>
      <origin xyz="0 0 0.0185" rpy="0 0 0" />
      <geometry>
        <box size="0.033 0.045 0.037" />
      </geometry>
    </visual>
    <collision>
      <geometry>
        <box size="0.033 0.045 0.037" />
      </geometry>
    </collision>
    <inertial>
      <mass value="0.016" />
      <inertia ixx="0.0" iyy="0.0" izz="0.0" ixy="0" ixz="0" iyz="0" />
    </inertial>
  </link>
  <joint name="finger_joint_finger_link_5_0_to_finger_link_5_1" type="revolute">
    <origin xyz="0.0 0.0 0.062" rpy="0 0 0" />
    <parent link="finger_link_5_0" />
    <child link="finger_link_5_1" />
    <axis xyz="0.0 1.0 0.0" />
    <limit lower="-3.142" upper="3.142" effort="10" velocity="10" />
  </joint>
  <link name="finger_link_5_2">
    <visual>
      <origin xyz="0 0 0.04" rpy="0 0 0" />
      <geometry>
        <box size="0.013 0.033 0.08" />
      </geometry>
    </visual>
    <collision>
      <geometry>
        <box size="0.013 0.033 0.08" />
      </geometry>
    </collision>
    <inertial>
      <mass value="0.01" />
      <inertia ixx="0.0" iyy="0.0" izz="0.0" ixy="0" ixz="0" iyz="0" />
    </inertial>
  </link>
  <joint name="finger_joint_finger_link_5_1_to_finger_link_5_2" type="revolute">
    <origin xyz="0.0 0.0 0.037" rpy="0 0 0" />
    <parent link="finger_link_5_1" />
    <child link="finger_link_5_2" />
    <axis xyz="1.0 0.0 0.0" />
    <limit lower="-3.142" upper="3.142" effort="10" velocity="10" />
  </joint>
  <link name="finger_link_5_3">
    <visual>
      <origin xyz="0 0 0.022" rpy="0 0 0" />
      <geometry>
        <box size="0.015 0.025 0.044" />
      </geometry>
    </visual>
    <collision>
      <geometry>
        <box size="0.015 0.025 0.044" />
      </geometry>
    </collision>
    <inertial>
      <mass value="0.005" />
      <inertia ixx="0.0" iyy="0.0" izz="0.0" ixy="0" ixz="0" iyz="0" />
    </inertial>
  </link>
  <joint name="finger_joint_finger_link_5_2_to_finger_link_5_3" type="revolute">
    <origin xyz="0.0 0.0 0.08" rpy="0 0 0" />
    <parent link="finger_link_5_2" />
    <child link="finger_link_5_3" />
    <axis xyz="0.0 1.0 0.0" />
    <limit lower="-3.142" upper="3.142" effort="10" velocity="10" />
  </joint>
</robot>
